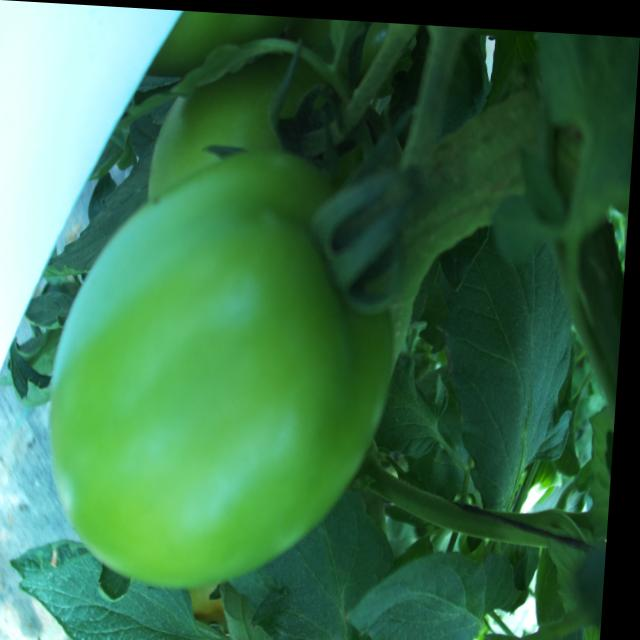yesil: (48, 141, 392, 579)
